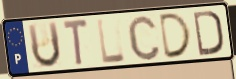C: (126, 13, 163, 62)
D: (158, 11, 194, 61), (192, 9, 225, 58)
L: (96, 16, 128, 65)
T: (62, 17, 90, 68)
U: (26, 20, 63, 70)
